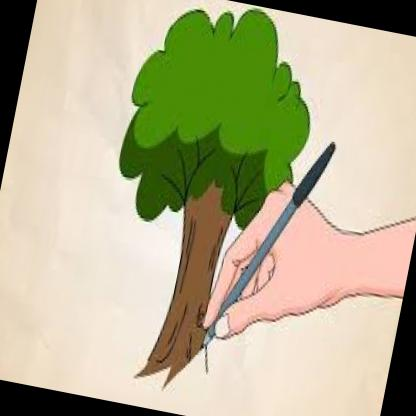branch_line: (155, 119, 272, 224)
crown_cloud: (105, 0, 330, 250)
trunk_bark: (165, 232, 230, 324)
